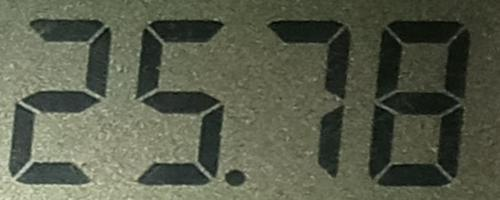.: (223, 166, 251, 197)
